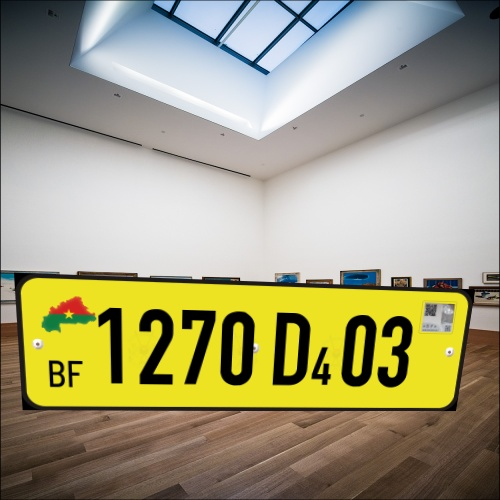plate: (6, 260, 484, 434)
